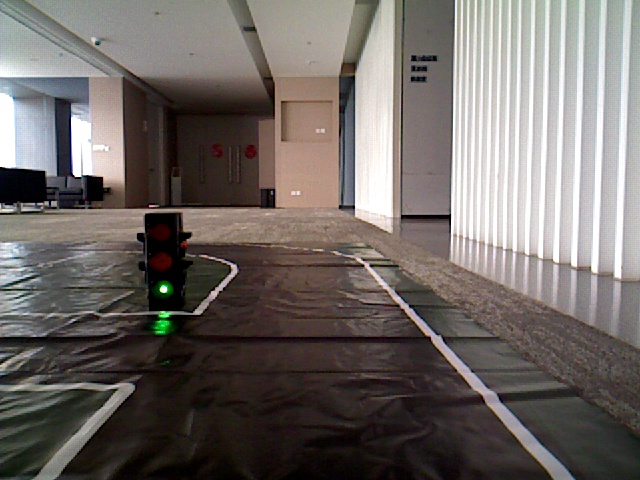green: (144, 218, 182, 297)
